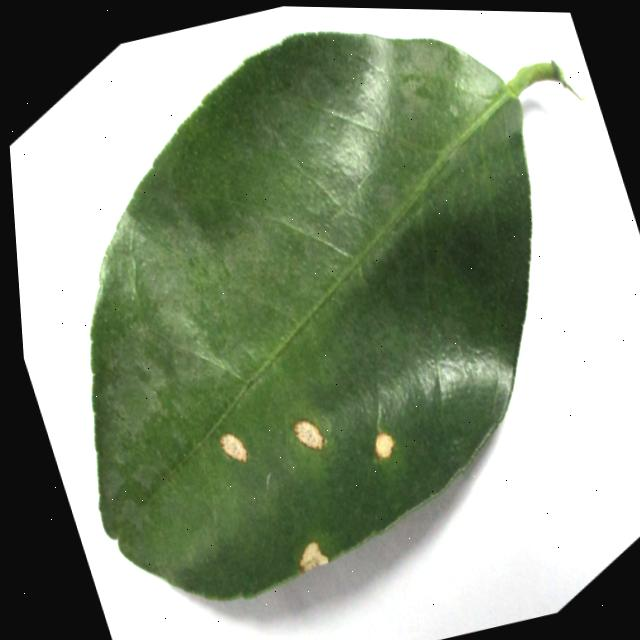antracnose: (90, 32, 567, 599), (294, 419, 324, 450), (300, 541, 328, 572), (220, 433, 247, 462), (375, 432, 394, 458)
